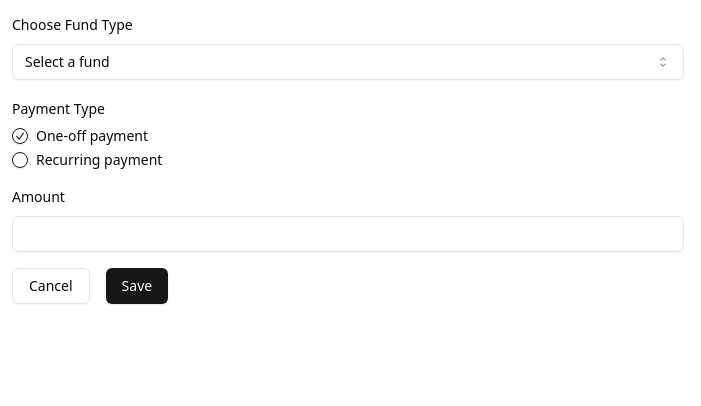
Test: ApplyForm › Payment Type Selection › should show frequency field only for recurring payments
This screenshot has width=701, height=406.
Check: the dropdown labelled "Frequency" is not shown
Step 1. Click the radio button named "recurring payment" next to "Recurring payment" → x=20, y=160, box [12,152,28,168]
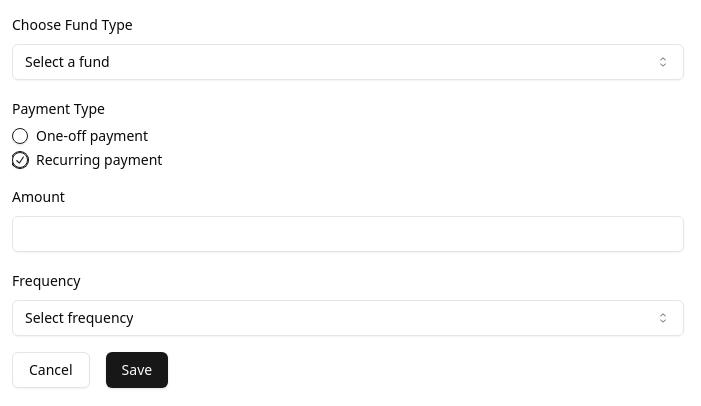
Check: the dropdown labelled "frequency" is shown, box [12,300,684,336]
Check: the text "Select frequency" is shown, box [25,308,133,328]
Step 2. Click the radio button named "one-off payment" next to "One-off payment" → x=20, y=136, box [12,128,28,144]
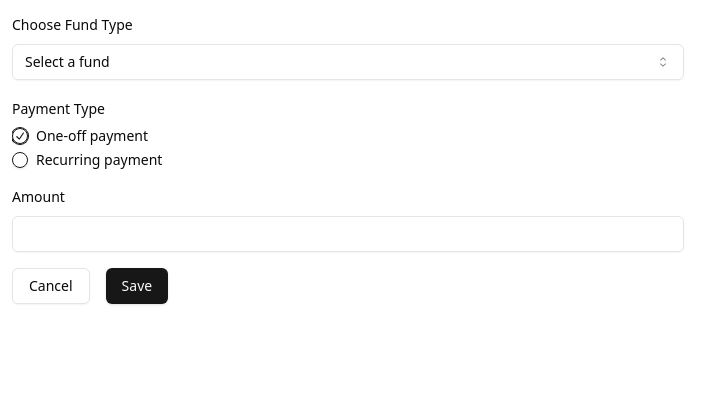
Check: the label "Frequency" is gone
